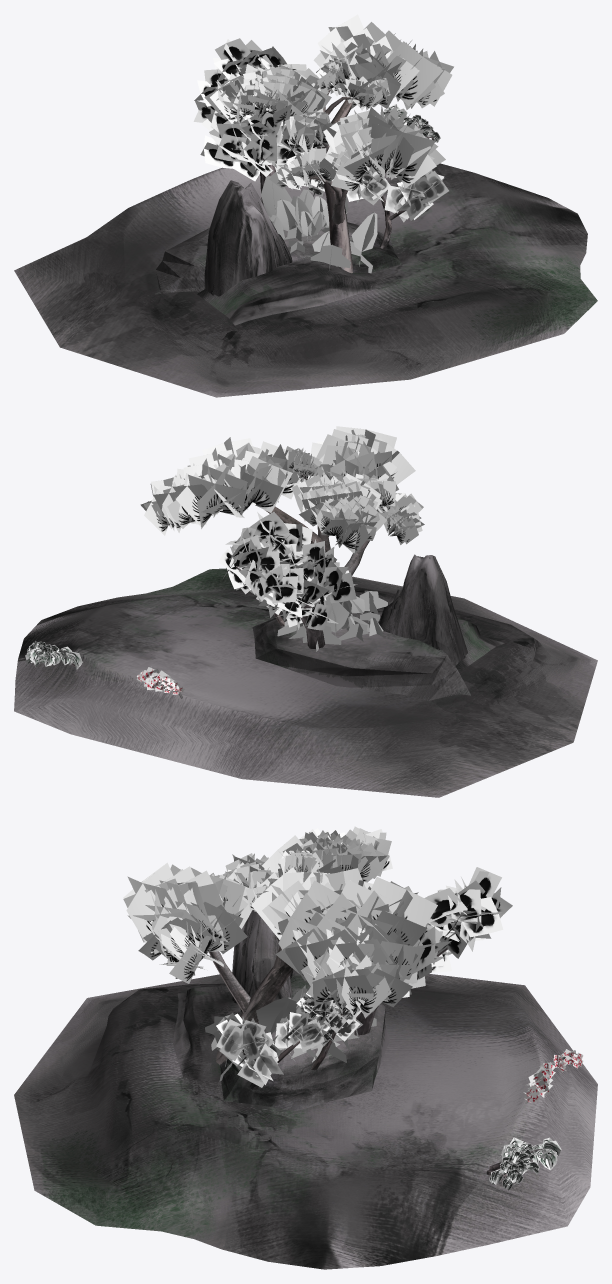
File: Set02_importAll_smooth.fbx
3 renders of one model, top to bottom at view 1: azimuth 30°, elevation 25°; view 2: azimuth 150°, elevation 25°; view 3: azimuth 270°, elevation 25°, orthographic. The views are drawn at different scales.
Visible parts, largest first — view 1: ground1, rockC, leafAC1 (×2), rockA, leafAB1 (×2), rockB, leafAA2 (×2), bambooA, leafG_2, leafG_3, treeA1, leafAB2 (+18 smaller); view 2: ground1, rockB, leafAB2 (×2), rockC, leafG_2, leafAA1 (×2), leafG_4, leafG_3, leafAB, leafAC1, leafAA2, leafAB1 (+14 smaller); view 3: ground1, leafAB1 (×2), leafAB2 (×2), leafAB (×2), rockB, leafAC2 (×2), rockA, leafAC1 (×2), leafG_4, leafAC, rockC, leafAA1 (+16 smaller).
Boxes of the visible parts, left/top/right/bottom form: ground1: left=14, top=163, right=597, bottom=397; rockC: left=204, top=180, right=292, bottom=296; leafAC1 (×2): left=331, top=119, right=438, bottom=193; rockA: left=197, top=259, right=378, bottom=325; leafAB1 (×2): left=339, top=36, right=452, bottom=110; rockB: left=155, top=222, right=401, bottom=294; leafAA2 (×2): left=210, top=79, right=322, bottom=126; bambooA: left=261, top=176, right=377, bottom=266; leafG_2: left=193, top=58, right=271, bottom=174; leafG_3: left=214, top=38, right=295, bottom=166; treeA1: left=303, top=89, right=359, bottom=273; leafAB2: left=313, top=14, right=417, bottom=96; ground1: left=14, top=568, right=597, bottom=797; rockB: left=252, top=611, right=470, bottom=700; leafAB2 (×2): left=144, top=456, right=292, bottom=535; rockC: left=378, top=554, right=467, bottom=666; leafG_2: left=237, top=560, right=356, bottom=630; leafAA1 (×2): left=292, top=474, right=371, bottom=553; leafG_4: left=218, top=512, right=331, bottom=603; leafG_3: left=230, top=535, right=336, bottom=602; leafAB: left=140, top=448, right=285, bottom=528; leafAC1: left=336, top=426, right=415, bottom=494; leafAA2: left=321, top=473, right=386, bottom=547; leafAB1: left=172, top=437, right=300, bottom=502; ground1: left=14, top=969, right=597, bottom=1269; leafAB1 (×2): left=251, top=867, right=361, bottom=1013; leafAB2 (×2): left=300, top=868, right=437, bottom=1012; leafAB (×2): left=284, top=872, right=399, bottom=1020; rockB: left=220, top=972, right=389, bottom=1110; leafAC2 (×2): left=167, top=870, right=251, bottom=983; rockA: left=173, top=986, right=241, bottom=1081; leafAC1 (×2): left=123, top=862, right=194, bottom=978; leafG_4: left=404, top=886, right=503, bottom=951; leafAC: left=139, top=866, right=248, bottom=982; rockC: left=232, top=910, right=293, bottom=1012; leafAA1: left=281, top=829, right=392, bottom=882.
Bounding box in the file's own units: 1624 × 657 × 1290.
